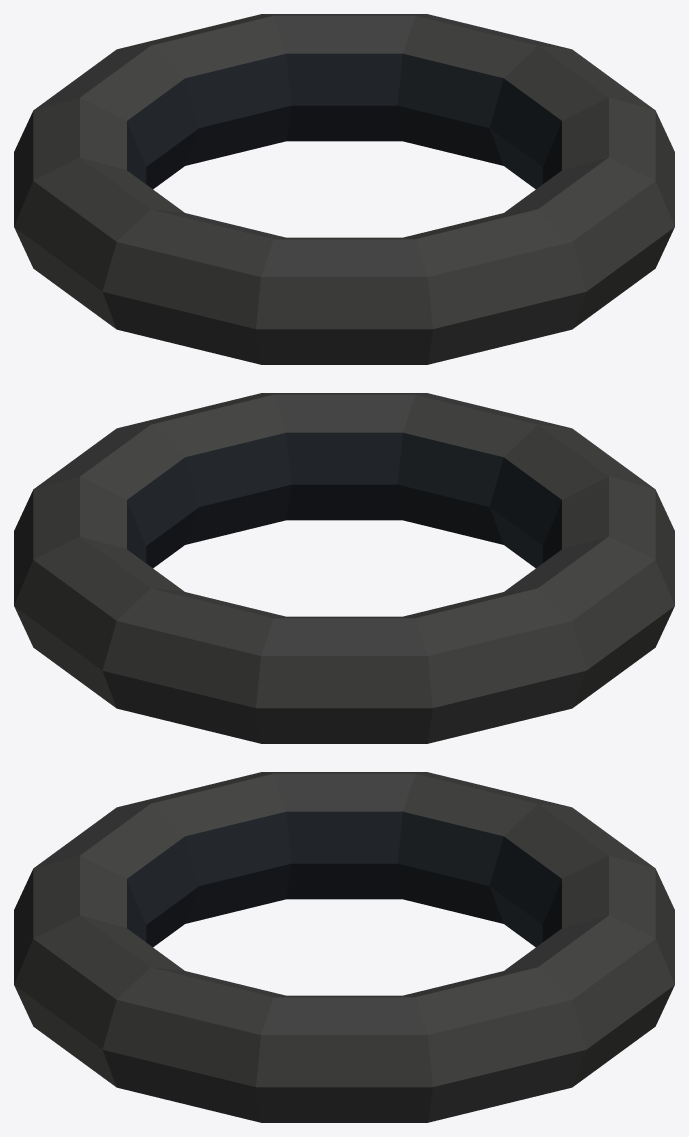
The model's file is Autoreifen fertig angemalt.fbx.
The picture shows the model from 3 angles, top to bottom: view 1: azimuth 30°, elevation 25°; view 2: azimuth 150°, elevation 25°; view 3: azimuth 270°, elevation 25°; orthographic projection.
Parts seen in each view (by area): view 1: torus; view 2: torus; view 3: torus.
Part boxes in pixels (box(x1,y1,x2,y2)): torus: box(14, 14, 674, 364); torus: box(14, 393, 674, 743); torus: box(14, 772, 674, 1122).
Size of the model in its own units: 125 by 25.88 by 125.
Materials: 1 (1 with a texture image).
